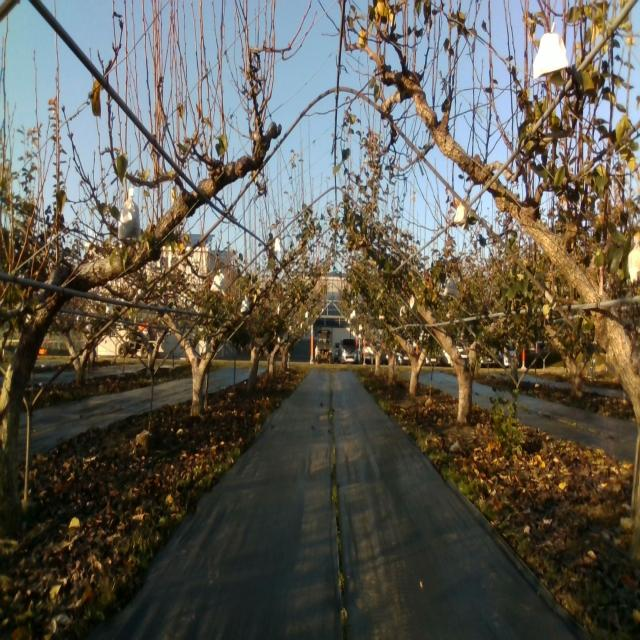pearbags: (533, 20, 569, 81), (118, 187, 140, 240), (627, 240, 640, 281), (453, 201, 468, 233), (210, 269, 224, 293), (444, 277, 458, 297)
